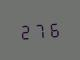seven: (33, 20, 46, 39)
six: (47, 19, 60, 38)
two: (18, 21, 31, 40)
